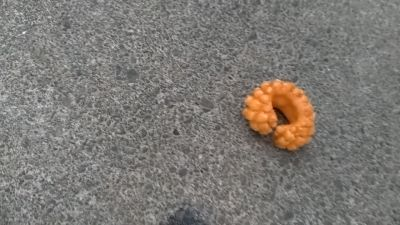eggs: (239, 78, 319, 153)
